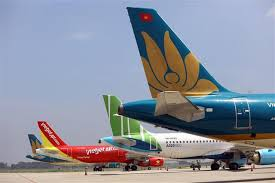maybay_dansu: (125, 7, 275, 142), (98, 98, 259, 167), (38, 121, 164, 169)
